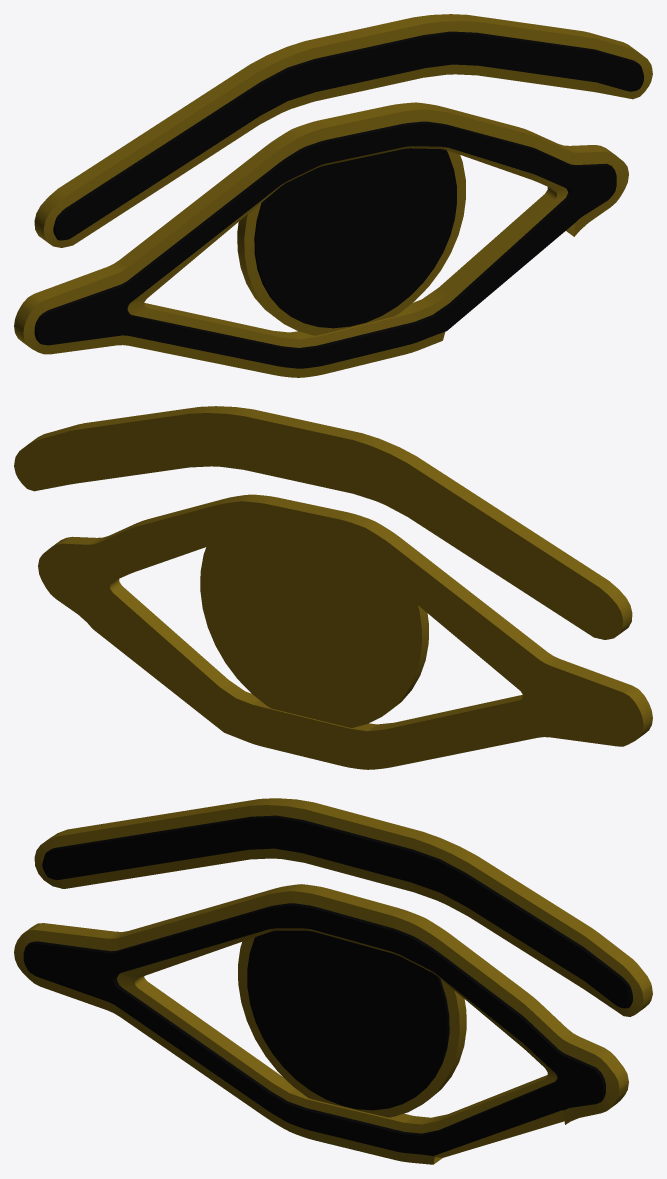
The model's file is Cuerpo Roto Ojo.fbx.
The picture shows the model from 3 angles, top to bottom: view 1: azimuth 30°, elevation 25°; view 2: azimuth 150°, elevation 25°; view 3: azimuth 330°, elevation 25°; orthographic projection.
Visible parts, largest first — view 1: polySurface27; view 2: polySurface27; view 3: polySurface27.
Part boxes in pixels (left/top/right/bottom): polySurface27: left=14, top=14, right=652, bottom=377; polySurface27: left=14, top=406, right=652, bottom=769; polySurface27: left=14, top=798, right=652, bottom=1164.
Bounding box in the file's own units: 5.08 × 2.54 × 0.1609.
